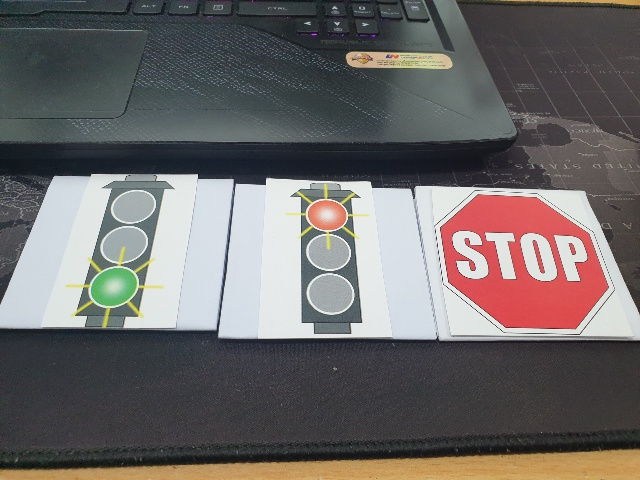Green Light: (73, 175, 163, 328)
Red Light: (284, 182, 373, 339)
Stop: (437, 190, 612, 332)
